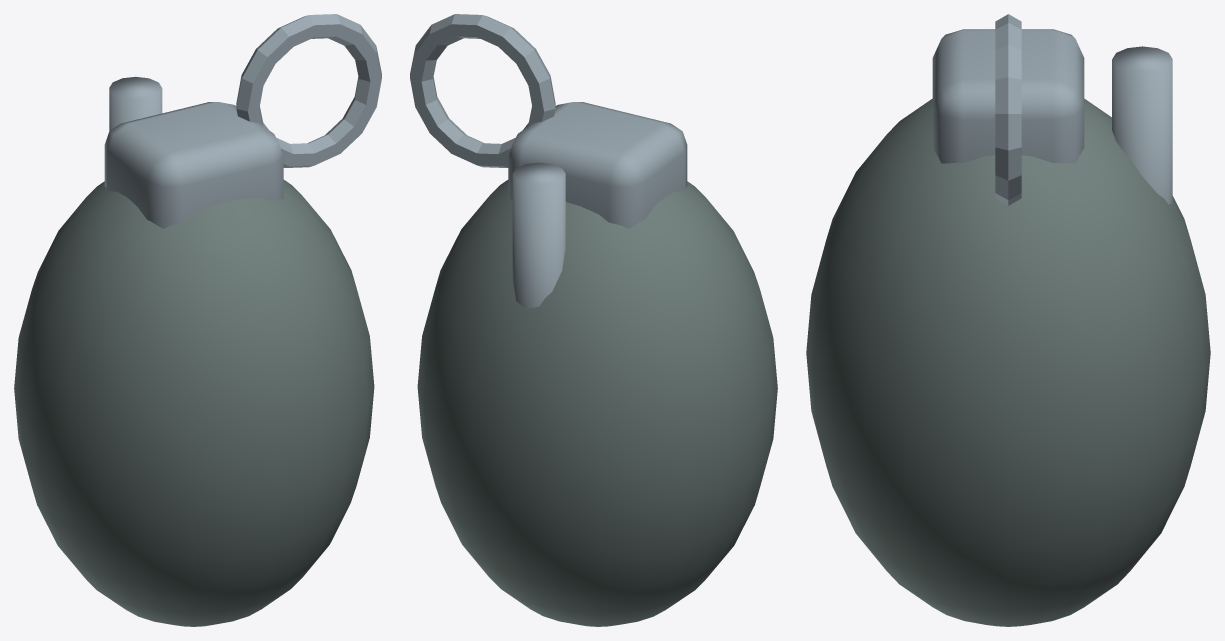
File: throwable.glb
3 renders of one model, left to right at view 1: azimuth 30°, elevation 25°; view 2: azimuth 150°, elevation 25°; view 3: azimuth 270°, elevation 25°, orthographic. The views are drawn at different scales.
Visible parts, largest first — view 1: ThrowableBody, ThrowableTop, ThrowableLoop, ThrowableLever; view 2: ThrowableBody, ThrowableTop, ThrowableLoop, ThrowableLever; view 3: ThrowableBody, ThrowableTop, ThrowableLever, ThrowableLoop.
Boxes of the visible parts, left/top/right/bottom form: ThrowableBody: left=14, top=180, right=374, bottom=626; ThrowableTop: left=104, top=102, right=283, bottom=228; ThrowableLoop: left=236, top=14, right=381, bottom=167; ThrowableLever: left=109, top=76, right=162, bottom=130; ThrowableBody: left=417, top=180, right=777, bottom=626; ThrowableTop: left=508, top=102, right=687, bottom=228; ThrowableLoop: left=410, top=14, right=555, bottom=167; ThrowableLever: left=512, top=162, right=565, bottom=308; ThrowableBody: left=806, top=98, right=1210, bottom=626; ThrowableTop: left=932, top=29, right=1084, bottom=163; ThrowableLever: left=1112, top=46, right=1172, bottom=204; ThrowableLoop: left=995, top=14, right=1021, bottom=205.
Size of the model in its own units: 0.09 by 0.143 by 0.08.
